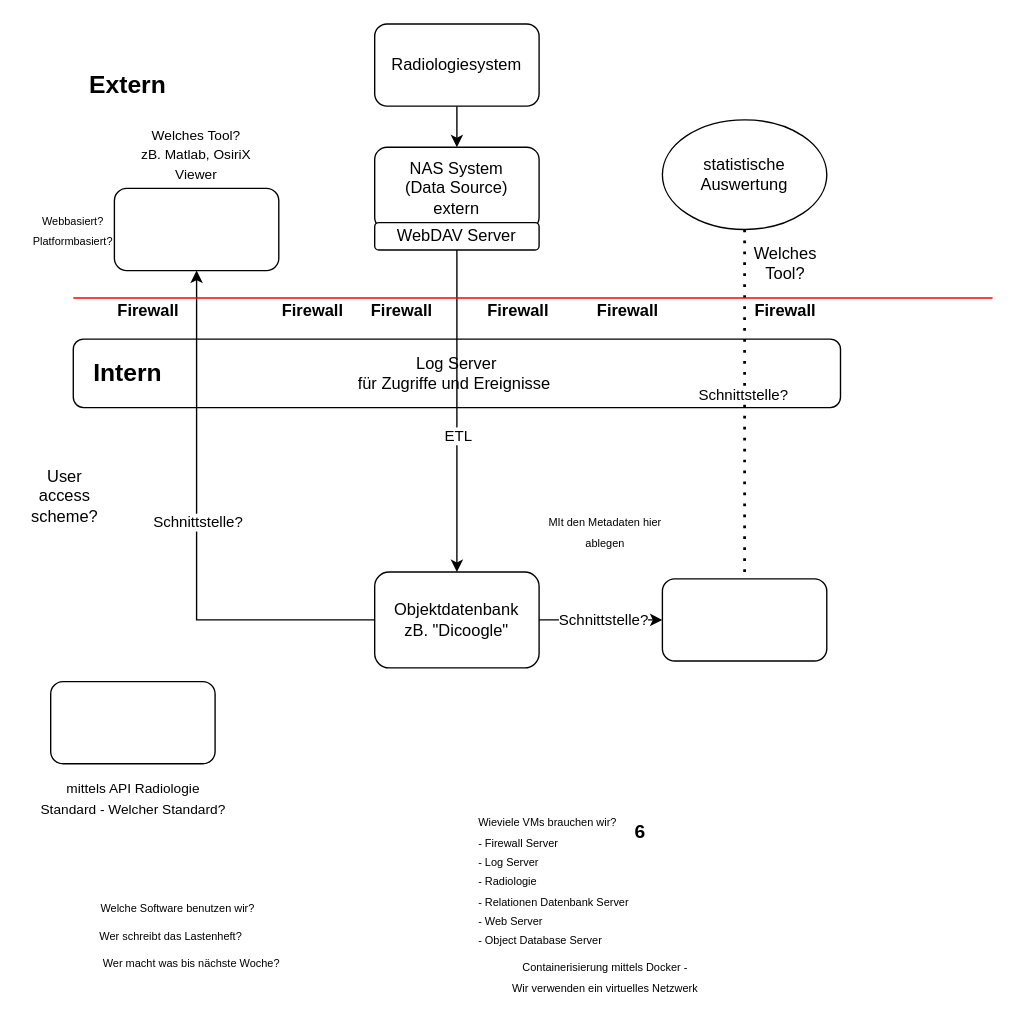
The diagram is 1018 pixels wide and 1021 high, and some of its shapes have lost their labels. Here are the shapes that lost their labels. From the top down, the centre of each, then its label:
At [196,229]: "Dicom Viewer".
At [744,619]: "Relationale Datenbank".
At [132,722]: "offene Systeme".
